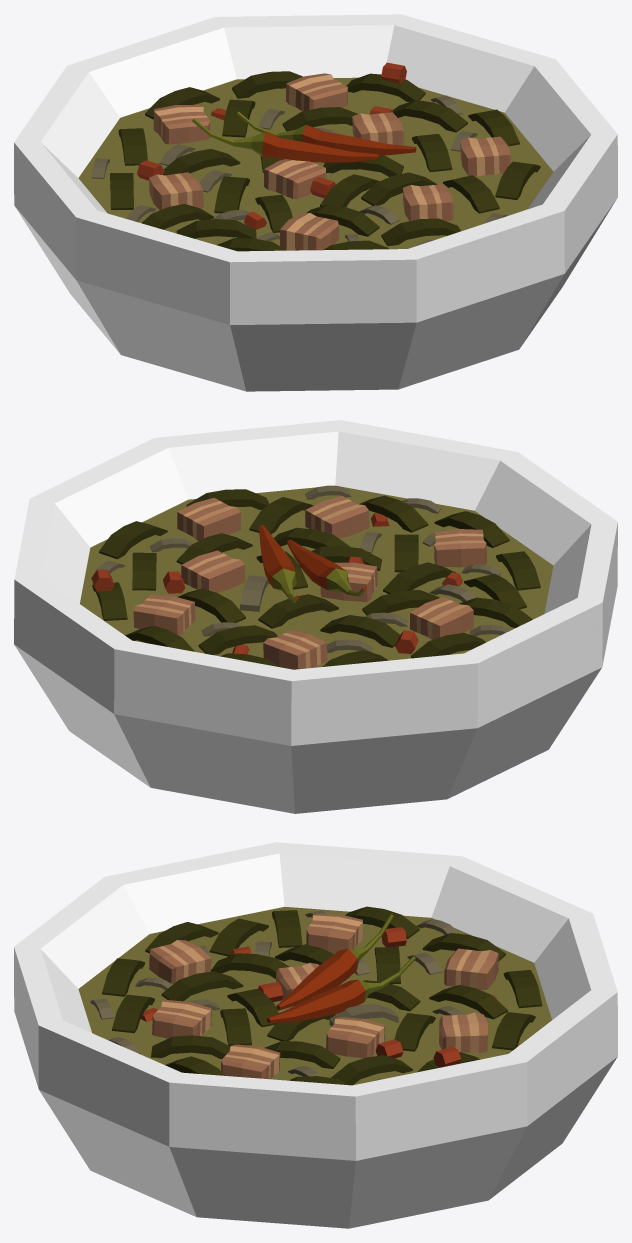
Rendered from Laing.fbx.
3 renders of one model, top to bottom at view 1: azimuth 30°, elevation 25°; view 2: azimuth 150°, elevation 25°; view 3: azimuth 270°, elevation 25°, orthographic. The views are drawn at different scales.
Parts seen in each view (by area): view 1: Laing; view 2: Laing; view 3: Laing.
Boxes of the visible parts, box(x1,y1,x2,y2) form: Laing: box(14, 14, 617, 391); Laing: box(14, 420, 617, 813); Laing: box(14, 842, 617, 1228).
Size of the model in its own units: 110 by 109 by 41.39.
